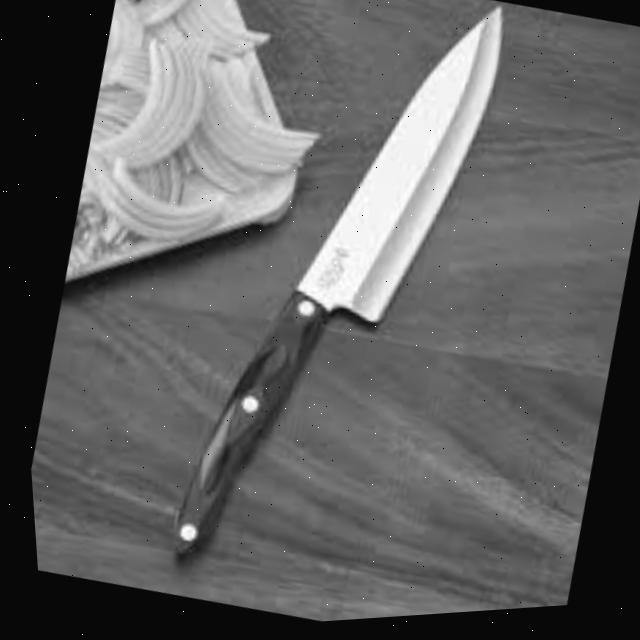Knife: (133, 0, 542, 611)
